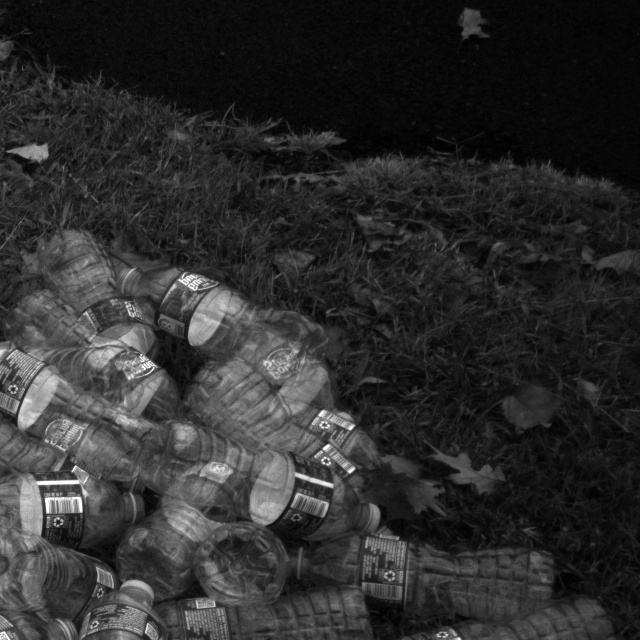bottle: (140, 421, 393, 542), (289, 533, 558, 626), (121, 265, 332, 383), (0, 348, 181, 479), (40, 228, 158, 374), (142, 584, 379, 640), (46, 577, 172, 640)
